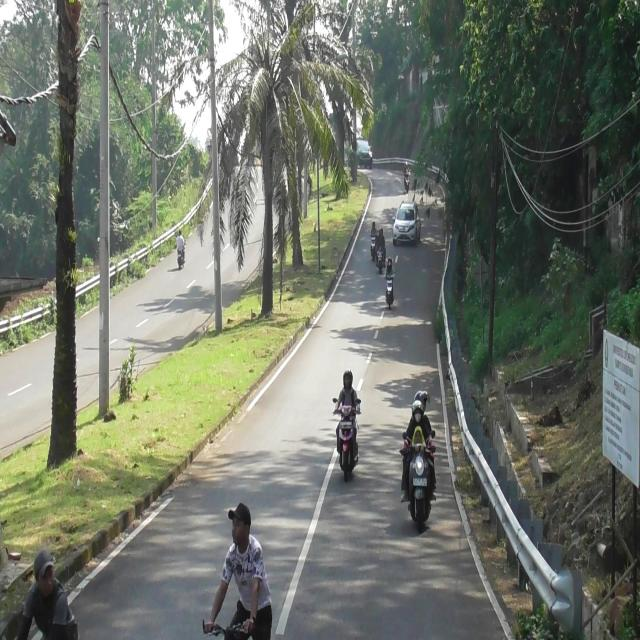motorcycle: (406, 441, 434, 531), (334, 406, 358, 481), (385, 274, 395, 308), (378, 246, 385, 274), (370, 232, 376, 259), (178, 247, 185, 268), (405, 174, 410, 194)
person: (401, 390, 438, 502), (404, 402, 434, 497), (335, 368, 360, 417), (411, 425, 425, 448), (376, 227, 386, 249), (386, 257, 394, 278), (176, 228, 184, 248), (370, 219, 378, 238), (403, 161, 410, 174)
rider_region: (399, 390, 436, 530), (332, 369, 361, 482), (385, 255, 395, 310), (377, 227, 386, 273), (176, 230, 185, 268), (369, 220, 377, 258), (404, 159, 411, 191)
